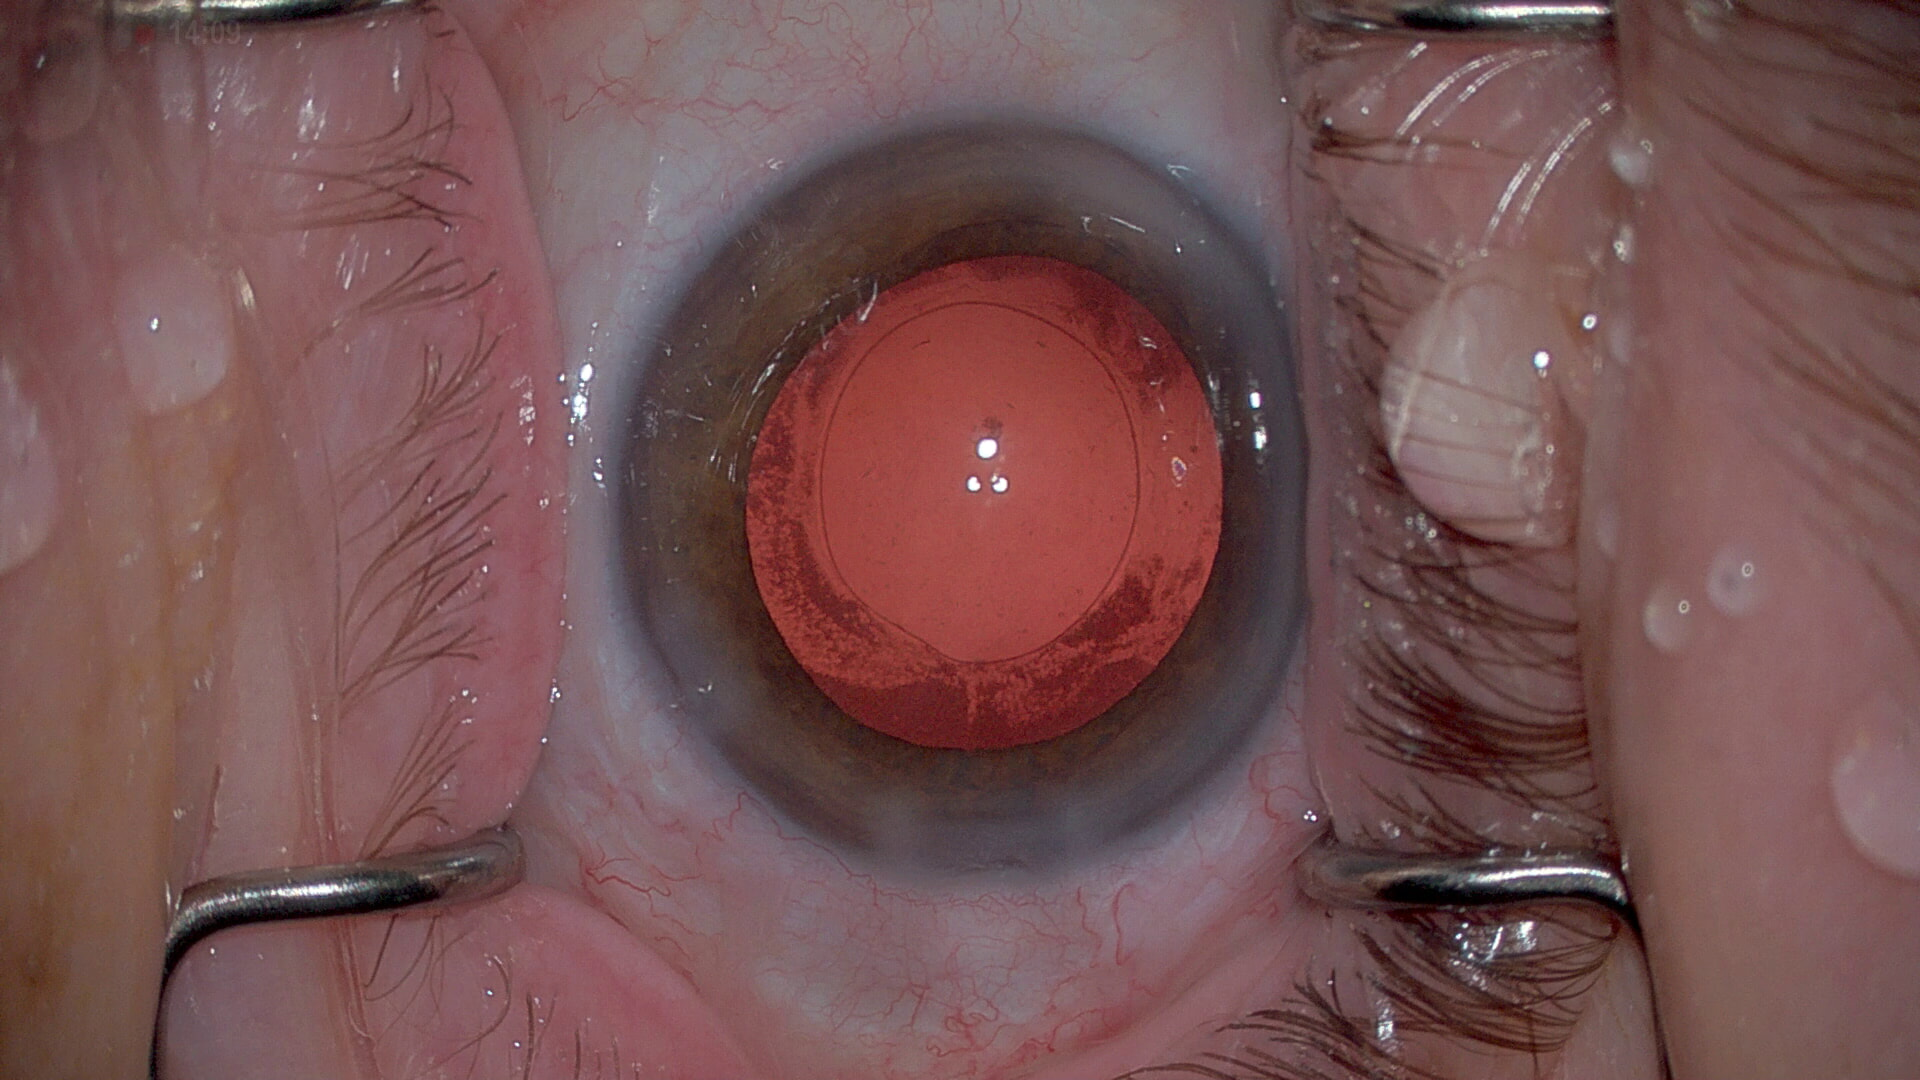iris: (630, 124, 1303, 851)
pupil: (740, 251, 1242, 744)
